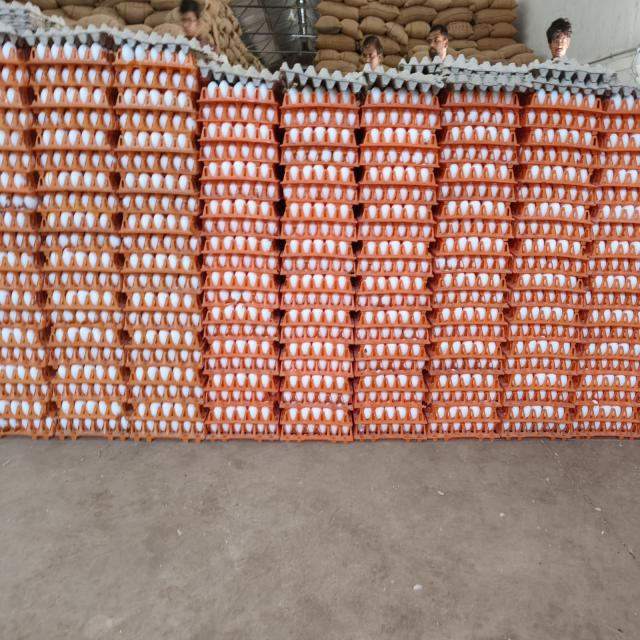egg_tray: (30, 42, 127, 437), (30, 43, 127, 437), (114, 45, 204, 439), (503, 91, 601, 437), (503, 92, 600, 436), (428, 91, 519, 438), (354, 88, 439, 439), (199, 81, 280, 439), (280, 87, 358, 441), (430, 92, 516, 413), (574, 95, 640, 437), (114, 44, 201, 303), (41, 192, 128, 437), (503, 202, 590, 437), (121, 194, 204, 439), (354, 202, 433, 439), (356, 87, 439, 309), (202, 200, 279, 438), (280, 202, 356, 437), (123, 196, 202, 415), (203, 215, 280, 438), (121, 195, 202, 403), (428, 200, 512, 375), (29, 42, 116, 196), (114, 44, 200, 198), (503, 273, 583, 437), (0, 42, 44, 326), (0, 212, 55, 437), (280, 272, 353, 440), (280, 273, 353, 441), (355, 221, 432, 375), (356, 165, 436, 309), (431, 201, 512, 343), (356, 164, 435, 309), (503, 272, 584, 413), (357, 164, 436, 307), (40, 192, 123, 325), (39, 192, 122, 324), (202, 199, 279, 341), (199, 81, 280, 215), (40, 192, 122, 324), (427, 305, 506, 438), (279, 305, 353, 441), (428, 306, 503, 438), (517, 90, 602, 205), (279, 307, 353, 439), (280, 274, 353, 405), (360, 87, 440, 204), (115, 85, 199, 196), (115, 86, 199, 194), (433, 194, 512, 308), (49, 324, 128, 438), (438, 91, 519, 202), (33, 87, 116, 195), (281, 87, 358, 203), (120, 194, 202, 302), (127, 329, 206, 441), (508, 202, 592, 307), (128, 329, 206, 441), (432, 200, 513, 307), (574, 307, 640, 437), (510, 202, 592, 306), (431, 235, 509, 343), (282, 164, 357, 275), (518, 90, 604, 186), (356, 205, 433, 310), (280, 201, 354, 310), (591, 95, 640, 259), (203, 336, 279, 438), (353, 335, 426, 440), (428, 339, 504, 439), (204, 339, 279, 440), (204, 338, 278, 438), (511, 185, 592, 276), (280, 307, 353, 406), (574, 325, 638, 437), (280, 308, 353, 406), (203, 218, 280, 308), (507, 271, 585, 357), (199, 121, 280, 202), (507, 258, 584, 342), (510, 198, 591, 277), (200, 123, 280, 202), (52, 355, 128, 438), (512, 198, 591, 277), (280, 87, 358, 167), (0, 327, 56, 438), (52, 358, 129, 438), (354, 293, 429, 375), (34, 121, 115, 196), (517, 130, 598, 205), (517, 132, 599, 206), (502, 354, 573, 439), (0, 42, 36, 209), (124, 287, 201, 364), (116, 127, 199, 198), (202, 236, 280, 310), (280, 201, 356, 276), (0, 210, 46, 327), (587, 203, 640, 304), (592, 94, 640, 205), (355, 305, 429, 376), (113, 43, 200, 103), (502, 367, 573, 439), (594, 94, 640, 205), (427, 370, 500, 439), (354, 373, 428, 441), (427, 371, 500, 439), (586, 221, 640, 309), (438, 141, 515, 202), (0, 358, 56, 438), (280, 217, 355, 276), (29, 41, 113, 92), (442, 91, 519, 146), (115, 86, 197, 137), (281, 253, 353, 311), (199, 121, 279, 173), (33, 85, 116, 132), (581, 306, 638, 374), (593, 125, 640, 206), (198, 79, 279, 126), (430, 322, 504, 372), (119, 194, 200, 239), (522, 89, 602, 134), (280, 86, 359, 131), (360, 87, 440, 131), (280, 86, 359, 130), (432, 271, 507, 317), (204, 298, 279, 343), (594, 131, 640, 204), (359, 126, 438, 168), (439, 123, 518, 165), (359, 163, 437, 205), (280, 163, 357, 205), (281, 125, 358, 166), (440, 91, 520, 130), (0, 126, 37, 210), (438, 161, 515, 201), (281, 201, 356, 242), (357, 204, 434, 243), (280, 274, 354, 314), (205, 403, 279, 441), (436, 201, 512, 237), (280, 405, 353, 442), (281, 338, 352, 375), (51, 326, 117, 354), (359, 309, 427, 333), (602, 92, 640, 133), (0, 40, 29, 91), (57, 326, 117, 347), (593, 185, 640, 205), (288, 202, 341, 215), (472, 397, 496, 421), (454, 307, 501, 319), (390, 205, 430, 217), (438, 406, 466, 420), (611, 309, 637, 321), (12, 329, 32, 343), (444, 404, 459, 421), (208, 201, 230, 212), (127, 316, 141, 332), (12, 107, 29, 119), (281, 335, 299, 345), (203, 189, 225, 197), (432, 310, 441, 329), (152, 301, 166, 313), (240, 201, 258, 210), (176, 323, 192, 333), (128, 316, 140, 329), (609, 297, 634, 303), (150, 354, 166, 363), (603, 275, 620, 283), (469, 406, 480, 418), (14, 346, 34, 352), (374, 204, 386, 214), (221, 306, 236, 313), (432, 394, 445, 402), (129, 351, 139, 361), (0, 107, 9, 118), (462, 163, 473, 172), (434, 361, 448, 368), (597, 325, 611, 332), (356, 390, 363, 404), (301, 135, 313, 143), (525, 191, 537, 199), (301, 135, 311, 144), (375, 204, 386, 212), (434, 361, 448, 367), (623, 116, 631, 126), (476, 274, 486, 282), (135, 338, 146, 345), (184, 320, 193, 328), (131, 304, 143, 310), (568, 298, 580, 304), (629, 207, 638, 215), (260, 202, 270, 209), (416, 265, 426, 272), (402, 265, 412, 272), (292, 240, 303, 246), (414, 225, 422, 233), (439, 353, 451, 358), (602, 205, 617, 209), (358, 396, 365, 404), (367, 323, 374, 331), (325, 240, 336, 245), (302, 339, 312, 344), (234, 167, 241, 174), (188, 113, 194, 121), (212, 167, 218, 174), (229, 206, 235, 212), (372, 266, 378, 272), (137, 236, 144, 241), (155, 306, 162, 311), (635, 115, 640, 122), (2, 327, 9, 332), (534, 410, 539, 417), (486, 352, 494, 356), (220, 211, 228, 215), (176, 96, 179, 106), (316, 218, 322, 223), (452, 274, 458, 279), (492, 274, 499, 278), (350, 212, 353, 221), (371, 158, 376, 163), (347, 135, 352, 140), (520, 274, 526, 278), (249, 171, 253, 177), (634, 134, 640, 138), (316, 423, 320, 429), (345, 146, 349, 152), (554, 191, 560, 195), (204, 229, 207, 236), (381, 267, 385, 272), (133, 334, 136, 340), (2, 344, 5, 350), (0, 90, 2, 98), (162, 343, 166, 347), (178, 114, 182, 118), (503, 381, 508, 384), (573, 300, 578, 303), (198, 348, 201, 353), (223, 172, 228, 175), (443, 295, 448, 298), (163, 310, 170, 312), (630, 276, 637, 278), (148, 308, 152, 311), (387, 174, 390, 178), (550, 345, 554, 348), (479, 363, 483, 366), (212, 314, 216, 317), (487, 278, 489, 284), (476, 165, 482, 167), (356, 381, 359, 385), (530, 410, 533, 414), (576, 151, 579, 155), (197, 326, 200, 330), (163, 319, 166, 323), (638, 115, 640, 120), (580, 285, 582, 290), (309, 362, 312, 365), (581, 301, 584, 304), (367, 395, 370, 398), (368, 207, 371, 210), (521, 167, 524, 170), (170, 311, 173, 314), (370, 388, 374, 390), (478, 363, 482, 365), (220, 203, 224, 205), (554, 261, 558, 263), (356, 327, 358, 331), (249, 412, 251, 416), (248, 212, 252, 214), (369, 205, 373, 207), (231, 194, 235, 196), (484, 415, 488, 417), (498, 325, 502, 327), (438, 289, 442, 291), (365, 207, 367, 211), (361, 223, 362, 230), (130, 345, 132, 348), (181, 106, 184, 108), (138, 428, 140, 431), (393, 359, 395, 362), (256, 206, 259, 208), (236, 201, 239, 203), (335, 431, 337, 434), (310, 247, 312, 250), (560, 187, 562, 190), (140, 399, 143, 401), (154, 281, 159, 282), (154, 274, 156, 276), (419, 367, 421, 369), (566, 289, 570, 290), (626, 172, 628, 174), (492, 409, 494, 411), (324, 411, 326, 413), (370, 224, 372, 226), (54, 337, 56, 339), (439, 411, 441, 413), (446, 399, 448, 401), (444, 399, 446, 401), (146, 394, 148, 396), (396, 331, 399, 332), (370, 389, 373, 390), (265, 175, 266, 178), (308, 431, 311, 432), (320, 430, 321, 433), (296, 211, 299, 212), (198, 347, 199, 350), (13, 102, 15, 103), (36, 306, 37, 308), (574, 261, 575, 263), (198, 357, 199, 359), (3, 340, 4, 342), (330, 429, 331, 431), (511, 412, 513, 413), (303, 212, 304, 214), (344, 134, 346, 135), (439, 416, 441, 417), (166, 238, 167, 239), (136, 298, 137, 299), (179, 198, 180, 199), (210, 244, 211, 245), (243, 309, 244, 310), (383, 227, 384, 228), (236, 165, 237, 166), (349, 337, 350, 338), (314, 427, 315, 428), (147, 309, 148, 310), (306, 270, 308, 270), (394, 280, 394, 282), (208, 336, 208, 339), (274, 307, 274, 308), (528, 316, 528, 317), (208, 312, 208, 315), (583, 302, 583, 303), (128, 240, 128, 241), (548, 198, 548, 199), (274, 212, 274, 215), (464, 276, 468, 276), (448, 163, 448, 164), (226, 196, 229, 196), (514, 414, 514, 414), (521, 130, 524, 130), (130, 318, 130, 319), (190, 310, 190, 310), (136, 305, 136, 306)
